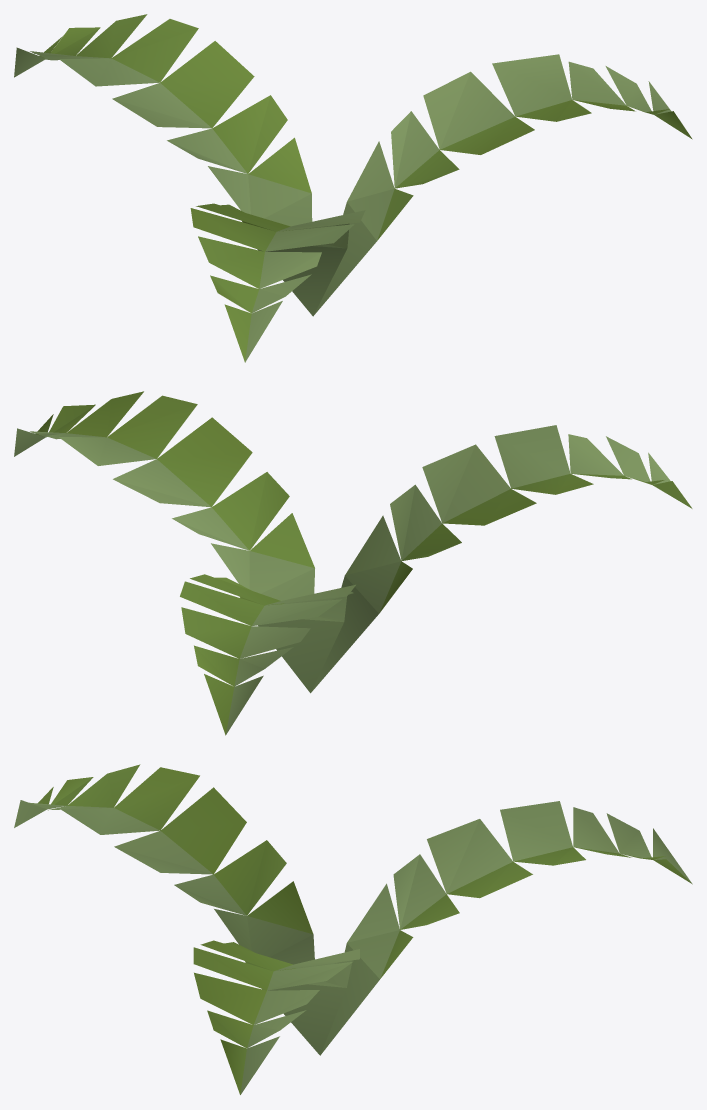
3 views of the same model, one above another, from view 1: azimuth 30°, elevation 25°; view 2: azimuth 150°, elevation 25°; view 3: azimuth 270°, elevation 25° (orthographic). The views are drawn at different scales.
Parts seen in each view (by area): view 1: model; view 2: model; view 3: model.
Boxes of the visible parts, x1,y1,x2,y2 form: model: [14, 14, 692, 362]; model: [14, 391, 692, 735]; model: [14, 764, 692, 1094].
Size of the model in its own units: 0.7422 by 0.25 by 0.7969.
